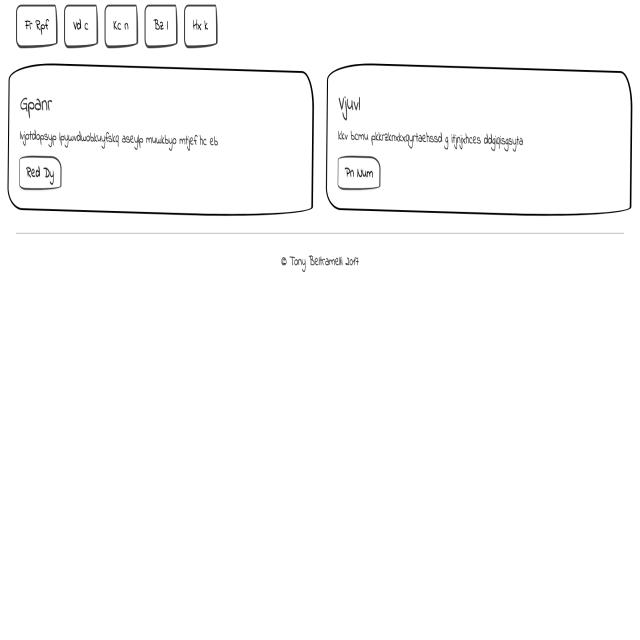Button: (334, 156, 387, 192), (16, 155, 70, 189)
Card: (320, 55, 640, 226), (4, 60, 318, 225)
Footer: (3, 233, 639, 640)
Heading 6: (17, 87, 55, 121), (334, 90, 367, 123)
Navigation Bar: (10, 4, 221, 56)
Paragraph: (18, 124, 222, 155), (336, 124, 537, 154)
